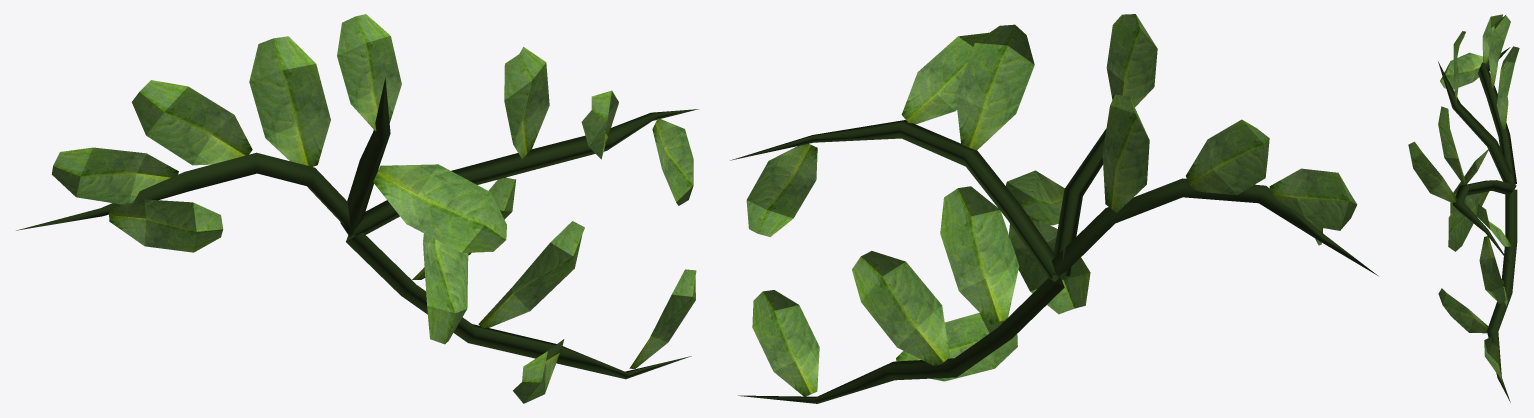
File: polygonum_06.obj
3 renders of one model, left to right at view 1: azimuth 30°, elevation 25°; view 2: azimuth 150°, elevation 25°; view 3: azimuth 270°, elevation 25°, orthographic. The views are drawn at different scales.
Visible parts, largest first — view 1: polygonum.004; view 2: polygonum.004; view 3: polygonum.004.
Part boxes in pixels (x1,y1,x2,y2): polygonum.004: (16,14,698,403); polygonum.004: (730,14,1377,403); polygonum.004: (1408,14,1519,402).
Size of the model in its own units: 0.2631 by 0.1698 by 0.0644.
